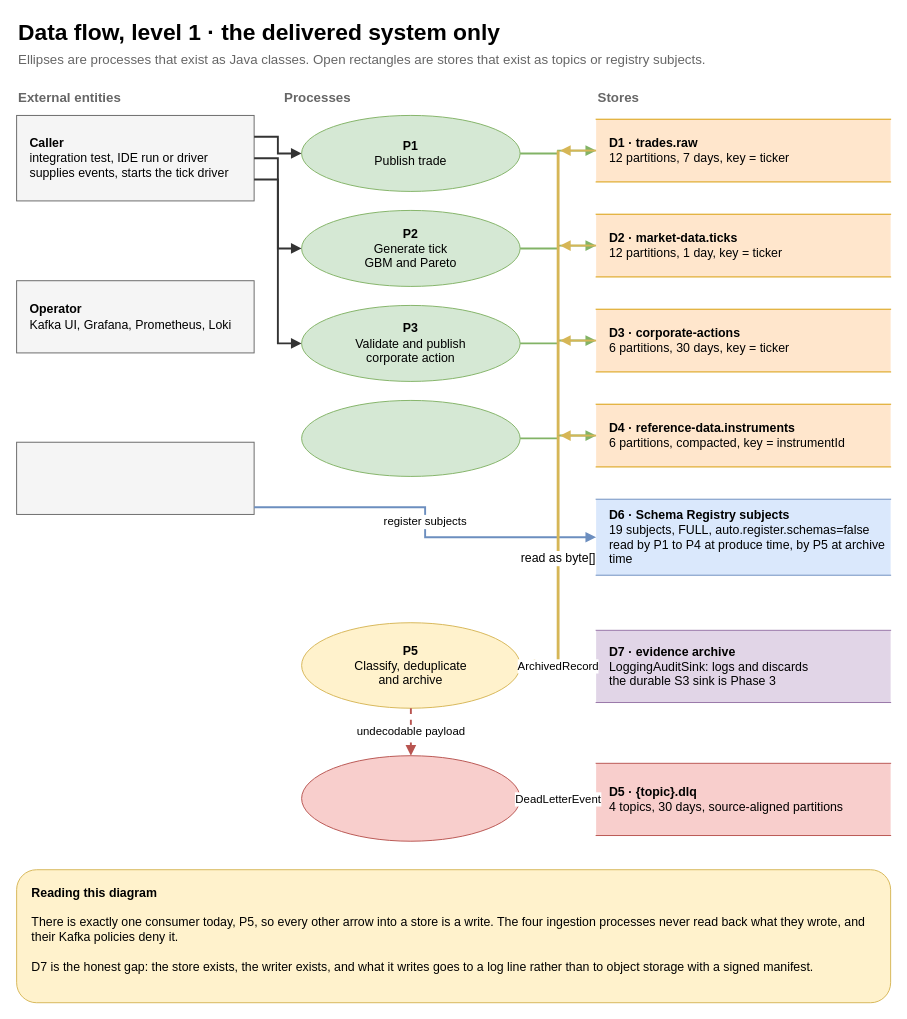
Some shapes in this 907 by 1019 pixel diagram are drawn without their labels. The shapes that lost their labels are listed below. From the top down, each one's box as (x1, y1, x2, y2) in pixels, then its label:
(301, 399, 520, 476): P4 Stamp identity, publish instrument reference
(16, 441, 254, 514): scripts/local-stack.sh provisions topics, subjects and ACLs
(301, 755, 520, 841): P6 Quarantine one record
